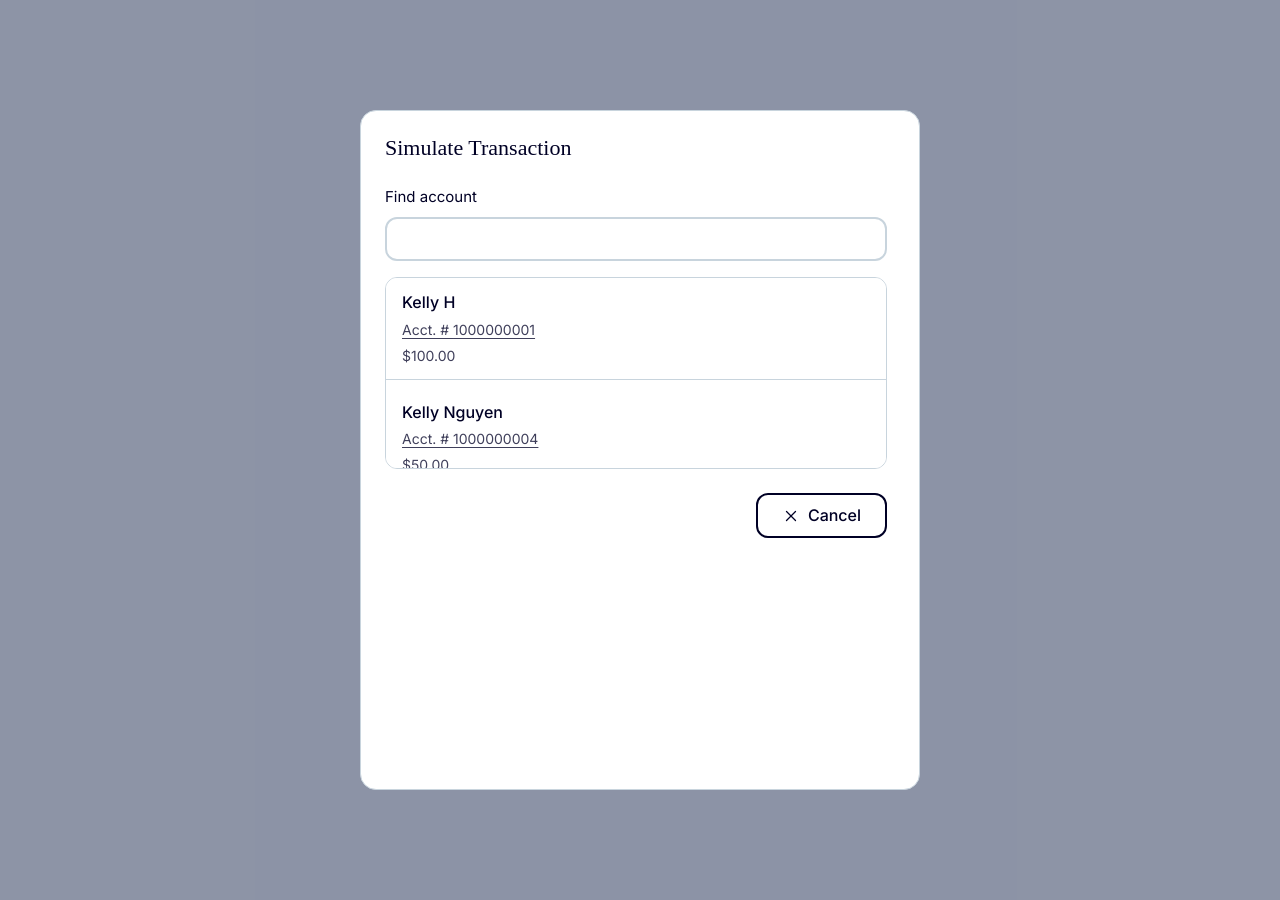
Test case: SimulateTransactionModal › hides the match list after an account is selected and can reopen it
The image size is (1280, 900).
Type "kelly" into the field labelled "Find account" at (636, 239), box top-left (385, 217), bottom-right (887, 261)
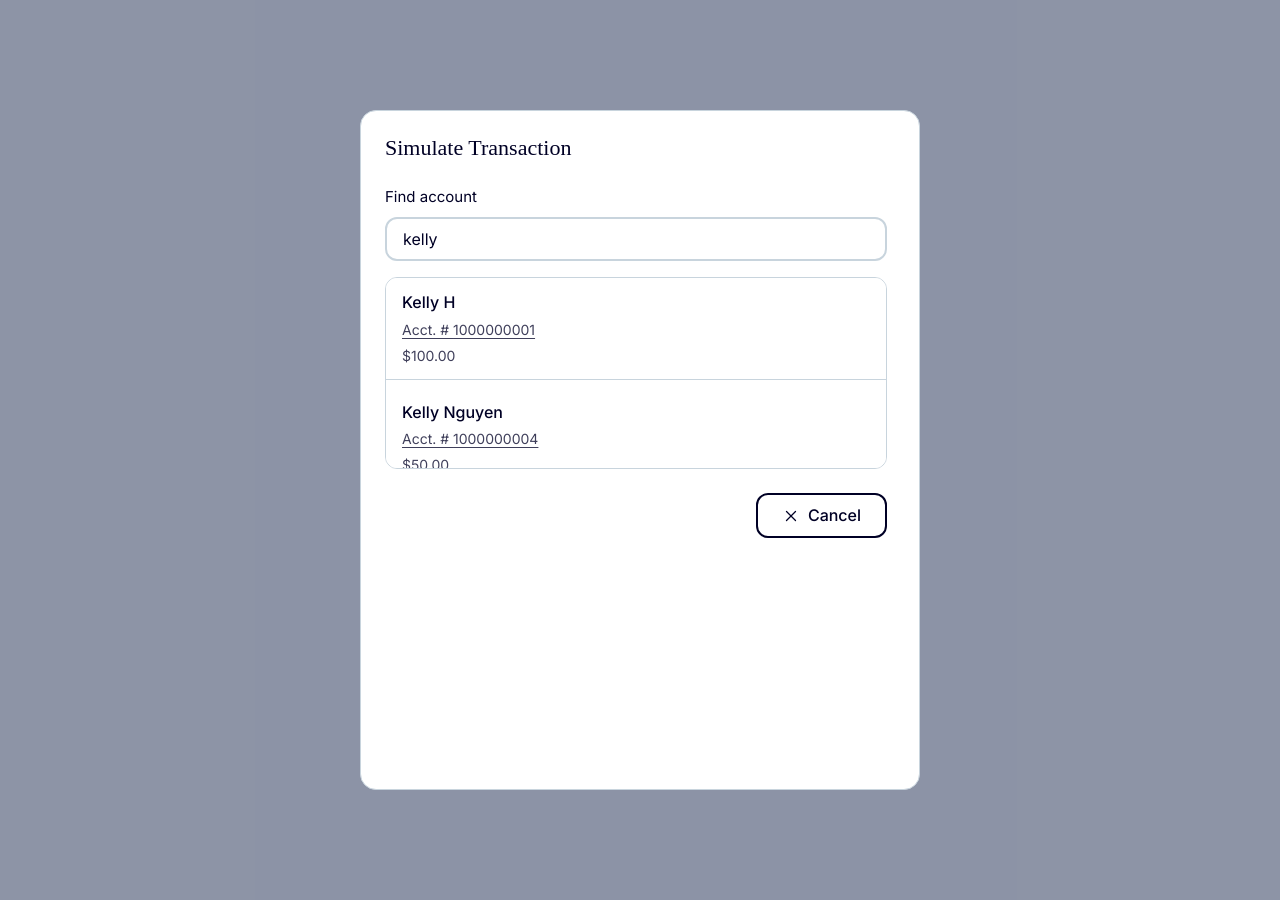
Click the text "$100.00" at (429, 356), box top-left (402, 345), bottom-right (455, 367)
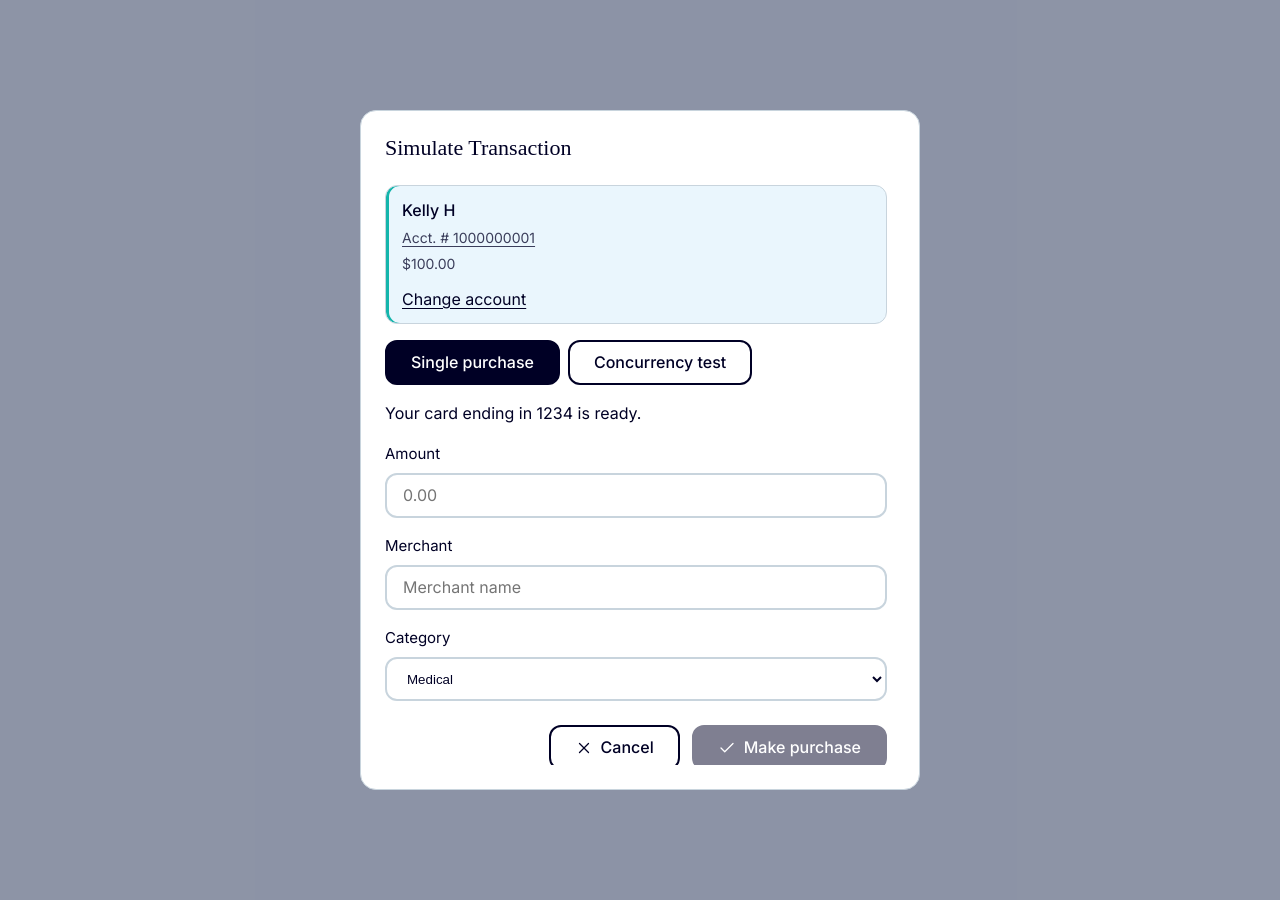
expect the text "Kelly H" is shown: met, box top-left (402, 198), bottom-right (455, 223)
expect the text labelled "Find account" is gone: met
expect the button "Kelly Nguyen" is gone: met
Click the button "Change account" at (464, 299), box top-left (402, 287), bottom-right (526, 311)
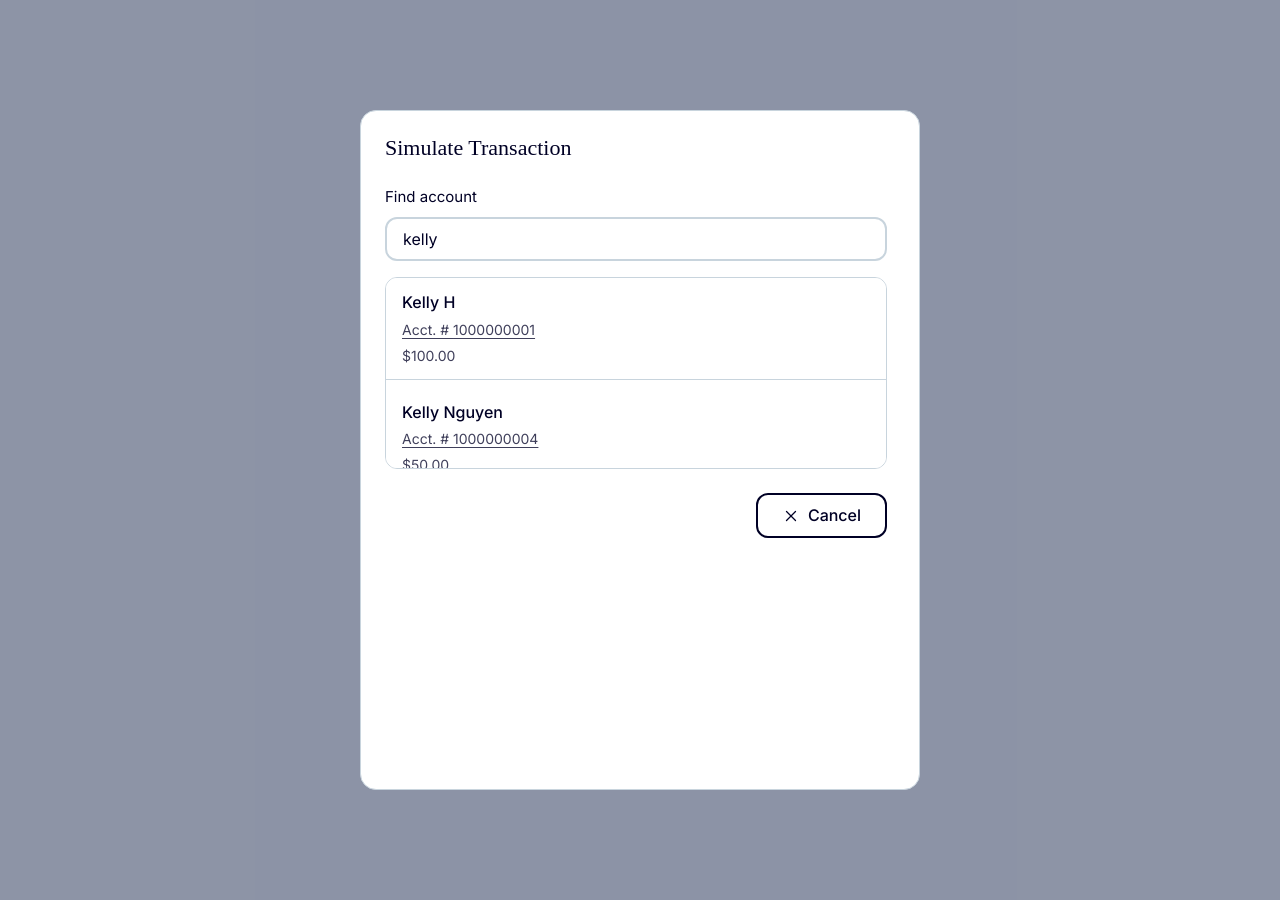
expect the field labelled "Find account" is shown: met, box top-left (385, 217), bottom-right (887, 261)
expect the text "Kelly Nguyen" is shown: met, box top-left (402, 402), bottom-right (503, 422)
